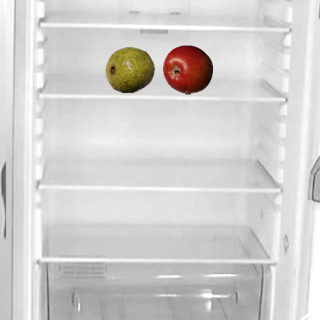Apple Braeburn: (162, 44, 212, 94)
Guava: (104, 44, 154, 94)
